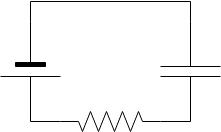Capacitor: (144, 54, 220, 91)
